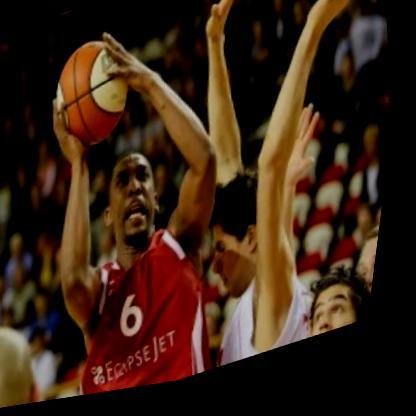basketball: (36, 26, 153, 166)
